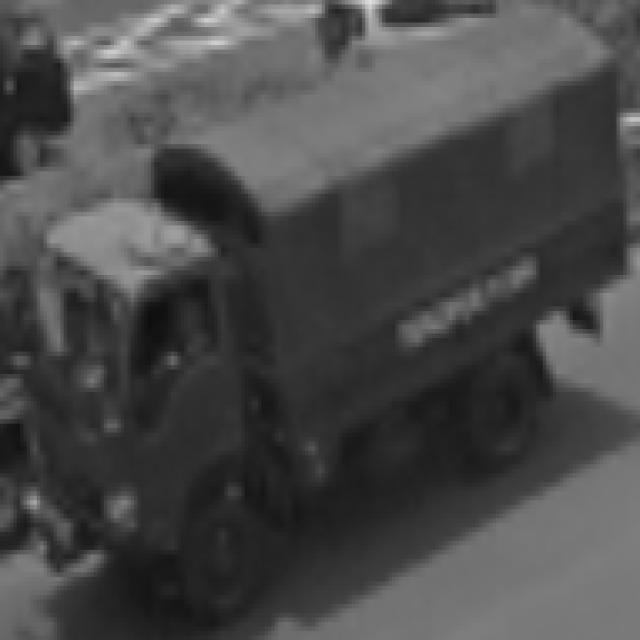truck: (1, 184, 267, 630)
